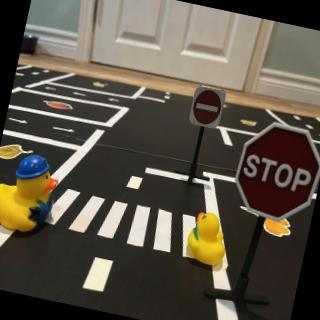duck_regular: (182, 210, 234, 272)
duck_specialty: (1, 148, 63, 241)
road_crosswalk: (43, 182, 214, 265)
road_oneway: (52, 123, 78, 137), (6, 114, 30, 128), (71, 88, 89, 99), (107, 95, 122, 107), (44, 85, 60, 95)
sign_noentry: (188, 85, 229, 133)
sign_stop: (228, 117, 320, 229)
